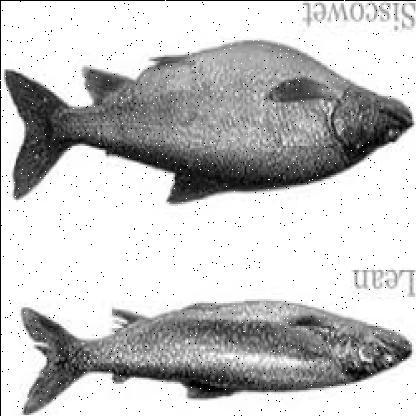fish: (1, 45, 415, 208), (16, 297, 415, 415)
